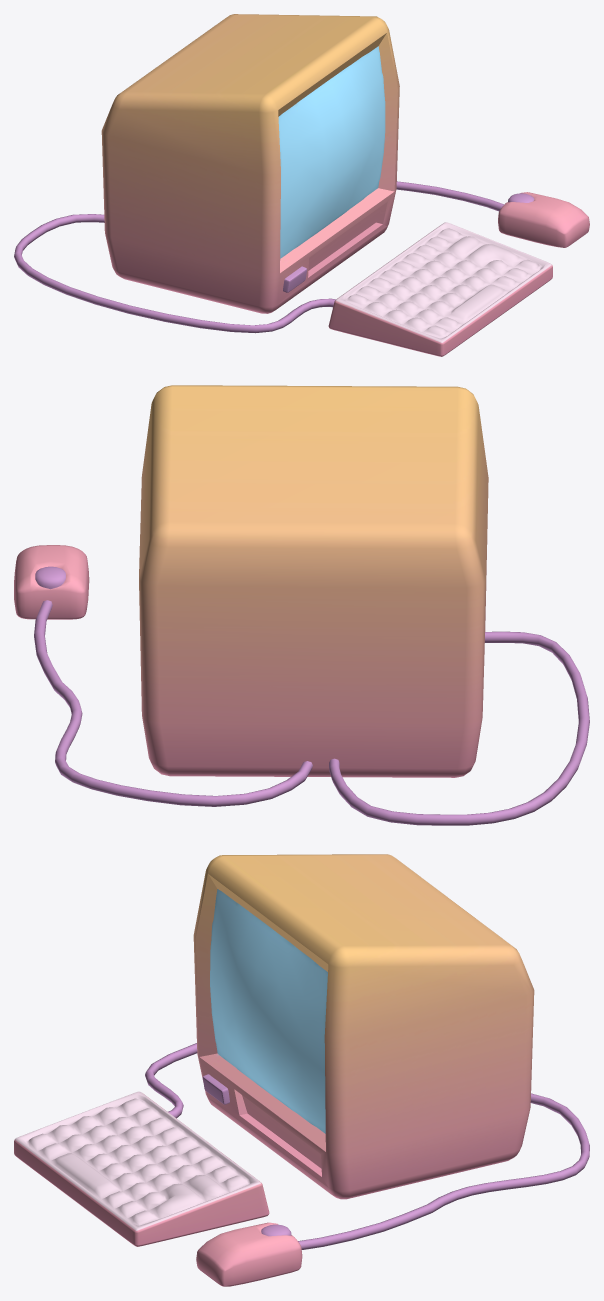
3 renders of one model, top to bottom at view 1: azimuth 30°, elevation 25°; view 2: azimuth 150°, elevation 25°; view 3: azimuth 270°, elevation 25°, orthographic. The views are drawn at different scales.
Visible parts, largest first — view 1: Base, Keyboard, Mouse; view 2: Base, Mouse, Keyboard; view 3: Base, Keyboard, Mouse.
Part boxes in pixels (left/top/right/bottom): Base: left=101, top=14, right=399, bottom=313; Keyboard: left=14, top=214, right=552, bottom=356; Mouse: left=396, top=181, right=589, bottom=247; Base: left=139, top=385, right=488, bottom=777; Mouse: left=14, top=545, right=312, bottom=806; Keyboard: left=329, top=631, right=589, bottom=825; Base: left=193, top=854, right=534, bottom=1199; Keyboard: left=14, top=1043, right=269, bottom=1246; Mouse: left=196, top=1093, right=589, bottom=1286.
Bounding box in the file's own units: 77.17 × 33.78 × 69.76.
Materials: 1 (1 with a texture image).
